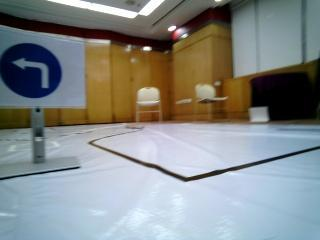left: (3, 27, 80, 107)
